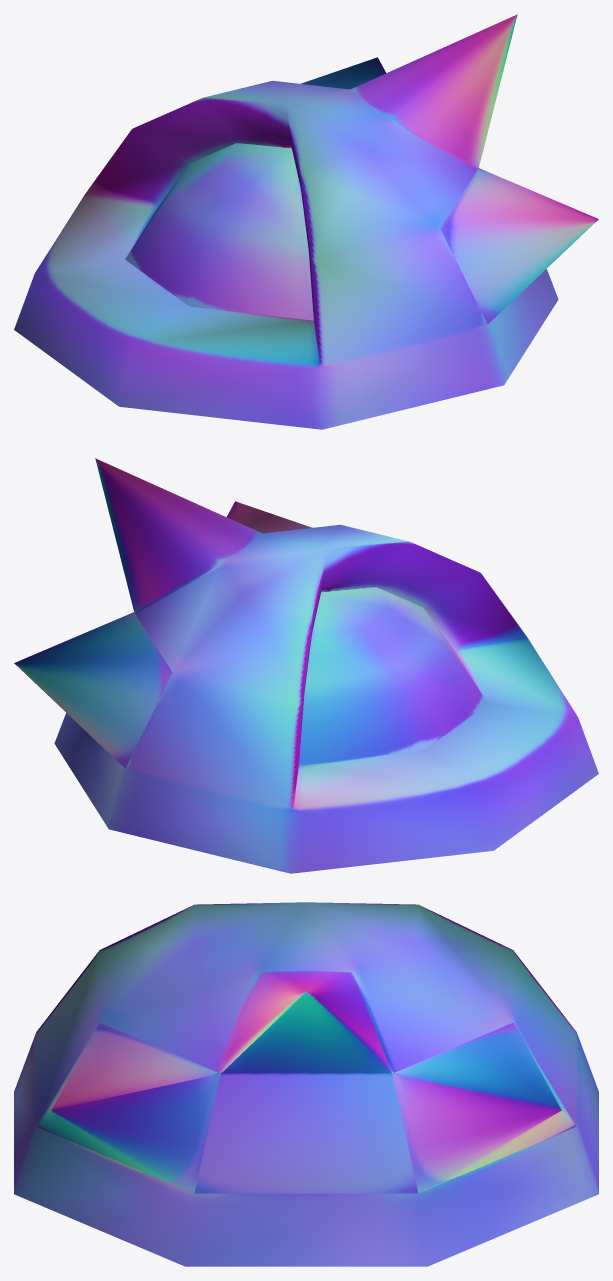
File: Tricorn.obj
The picture shows the model from 3 angles, top to bottom: view 1: azimuth 30°, elevation 25°; view 2: azimuth 150°, elevation 25°; view 3: azimuth 270°, elevation 25°; orthographic projection. The views are drawn at different scales.
Parts seen in each view (by area): view 1: Sphere.002_Sphere.011; view 2: Sphere.002_Sphere.011; view 3: Sphere.002_Sphere.011.
Boxes of the visible parts, x1=… form: Sphere.002_Sphere.011: x1=14, y1=14, x2=598, y2=429; Sphere.002_Sphere.011: x1=14, y1=458, x2=598, y2=873; Sphere.002_Sphere.011: x1=14, y1=902, x2=598, y2=1266.
Size of the model in its own units: 4.93 by 2.55 by 4.8.
